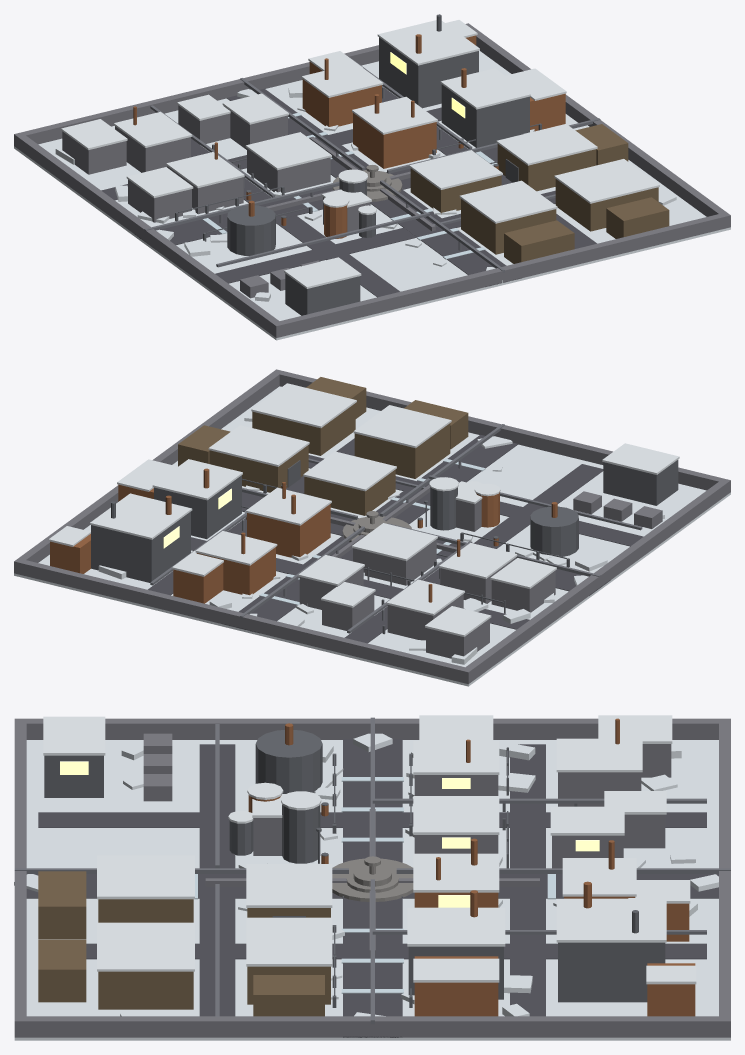
Rendered from Location01_DayMiniCity.fbx.
3 views of the same model, one above another, from view 1: azimuth 30°, elevation 25°; view 2: azimuth 150°, elevation 25°; view 3: azimuth 270°, elevation 25° (orthographic). The views are drawn at different scales.
Visible parts, largest first — view 1: Ground, Wall_S, Wall_W, Wall_N, St_NS, Wall_E, WS_D1, WS_C1, WS_A1, WH_D1_R, WS_D1_R, St_SW_H (+43 smaller); view 2: Ground, Wall_N, Wall_W, WS_D1, St_NS, Wall_S, Wall_E, WH_C1, WH_D1_R, WS_A1, WS_D1_R, WH_C1_R (+51 smaller); view 3: Ground, Wall_E, St_EW, Wall_W, WS_D1, WH_D1_R, WS_D1_R, WH_C1_R, WH_B1_R, St_SE_H, St_SW_H, Wall_S (+62 smaller).
Part boxes in pixels (<box>): Ground: <box>14,50,730,340</box>; Wall_S: <box>272,214,730,337</box>; Wall_W: <box>14,135,283,335</box>; Wall_N: <box>14,23,472,148</box>; St_NS: <box>226,88,521,286</box>; Wall_E: <box>468,24,730,228</box>; WS_D1: <box>379,37,478,108</box>; WS_C1: <box>441,84,529,147</box>; WS_A1: <box>353,113,436,168</box>; WH_D1_R: <box>554,159,659,203</box>; WS_D1_R: <box>377,20,479,65</box>; St_SW_H: <box>215,227,416,283</box>; Ground: <box>14,386,730,686</box>; Wall_N: <box>14,558,472,683</box>; Wall_W: <box>461,478,730,684</box>; WS_D1: <box>91,511,190,582</box>; St_NS: <box>222,435,518,633</box>; Wall_S: <box>279,371,730,492</box>; Wall_E: <box>14,369,283,574</box>; WH_C1: <box>354,423,450,478</box>; WH_D1_R: <box>251,383,356,428</box>; WS_A1: <box>247,504,330,557</box>; WS_D1_R: <box>90,493,192,539</box>; WH_C1_R: <box>353,405,451,448</box>; Ground: <box>14,740,730,1040</box>; Wall_E: <box>14,1016,730,1037</box>; St_EW: <box>343,739,402,1037</box>; Wall_W: <box>14,718,718,739</box>; WS_D1: <box>558,942,665,1002</box>; WH_D1_R: <box>97,922,194,971</box>; WS_D1_R: <box>556,898,666,942</box>; WH_C1_R: <box>97,855,194,899</box>; WH_B1_R: <box>246,917,332,966</box>; St_SE_H: <box>199,898,235,1016</box>; St_SW_H: <box>199,744,235,868</box>; Wall_S: <box>14,723,26,1037</box>.
Size of the model in its own units: 6000 by 1015 by 6005.
